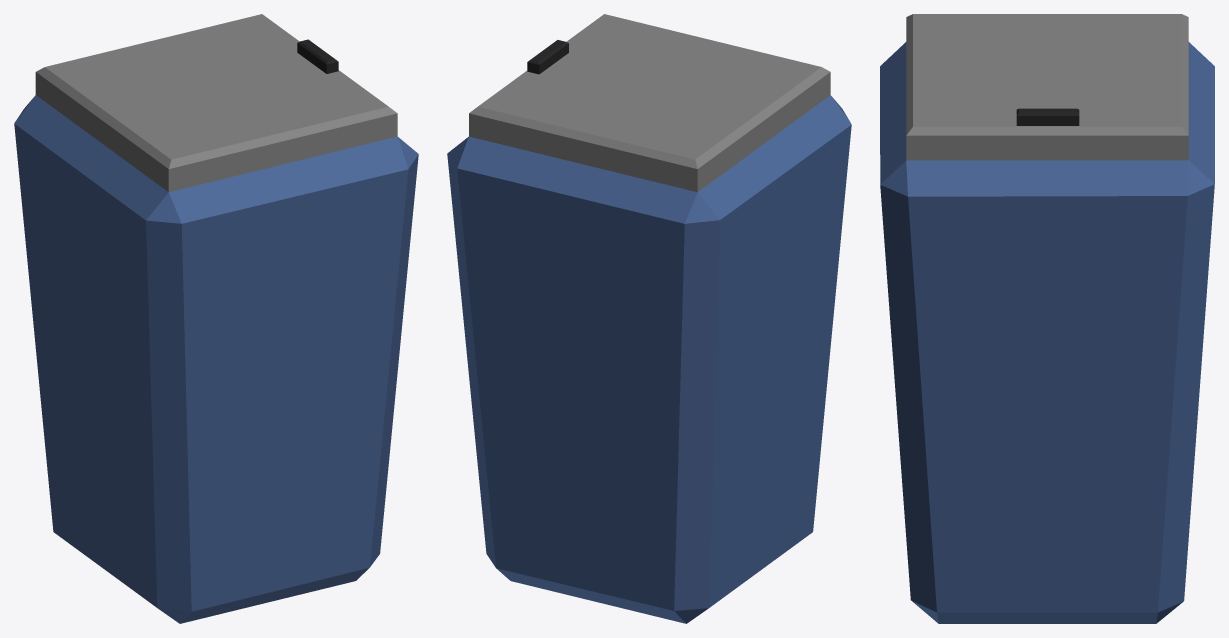
Rendered from Obj_LabWasteBin.fbx.
3 views of the same model, side by side, from view 1: azimuth 30°, elevation 25°; view 2: azimuth 150°, elevation 25°; view 3: azimuth 270°, elevation 25° (orthographic). The views are drawn at different scales.
Parts seen in each view (by area): view 1: Obj_LabWasteBin; view 2: Obj_LabWasteBin; view 3: Obj_LabWasteBin.
Part boxes in pixels (x1,y1,x2,y2): Obj_LabWasteBin: (14,14,418,623); Obj_LabWasteBin: (447,14,851,623); Obj_LabWasteBin: (880,14,1214,623).
Size of the model in its own units: 0.7 by 1.2 by 0.7.
